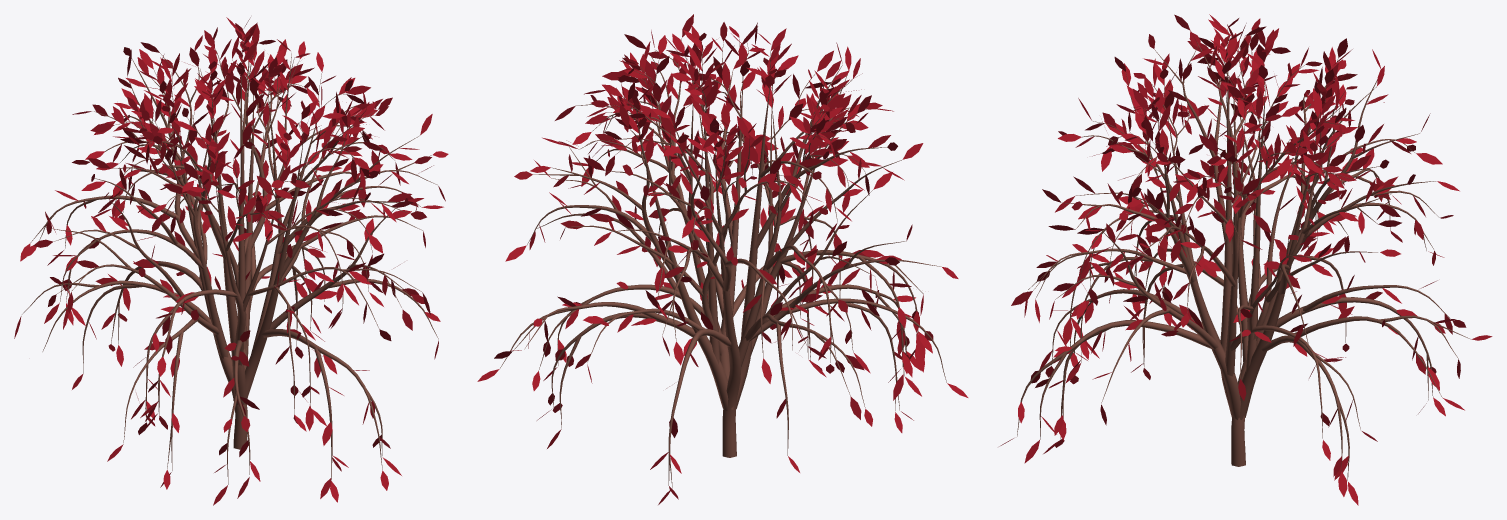
Rendered from tree.fbx.
3 renders of one model, left to right at view 1: azimuth 30°, elevation 25°; view 2: azimuth 150°, elevation 25°; view 3: azimuth 270°, elevation 25°, orthographic. The views are drawn at different scales.
Parts seen in each view (by area): view 1: leaves, tree; view 2: leaves, tree; view 3: leaves, tree.
Boxes of the visible parts, box(x1,y1,x2,y2) form: leaves: box(14, 17, 448, 505); tree: box(22, 34, 438, 484); leaves: box(477, 14, 968, 504); tree: box(500, 38, 946, 487); leaves: box(999, 14, 1492, 505); tree: box(1017, 28, 1470, 480).
Bounding box in the file's own units: 486 × 503 × 516.
